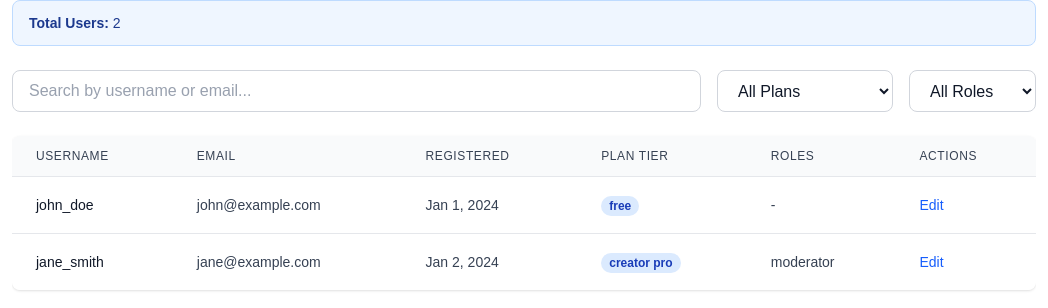
Test: UserManagementTab › Filter Functionality › should filter users with no roles
Check: the text "john_doe" is shown, box [36,197,94,213]
Get all comboboxes and find the second one (role filter)
Select "No Roles" in the 2nd dropdown at [972, 91], box [909,70,1036,112]
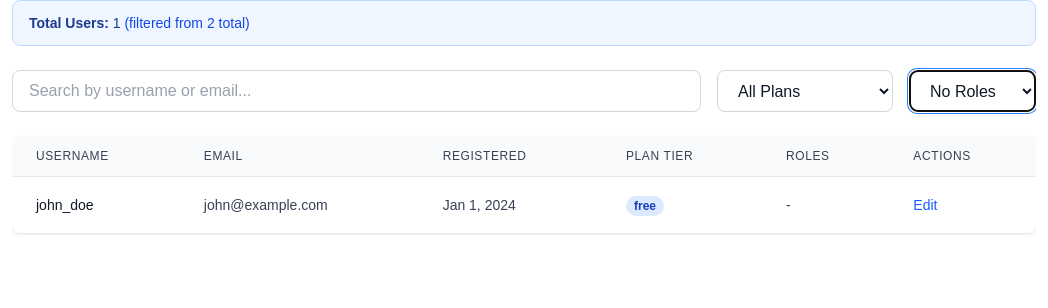
Check: the text "john_doe" is shown, box [36,197,94,213]
Check: the text "jane_smith" is gone
